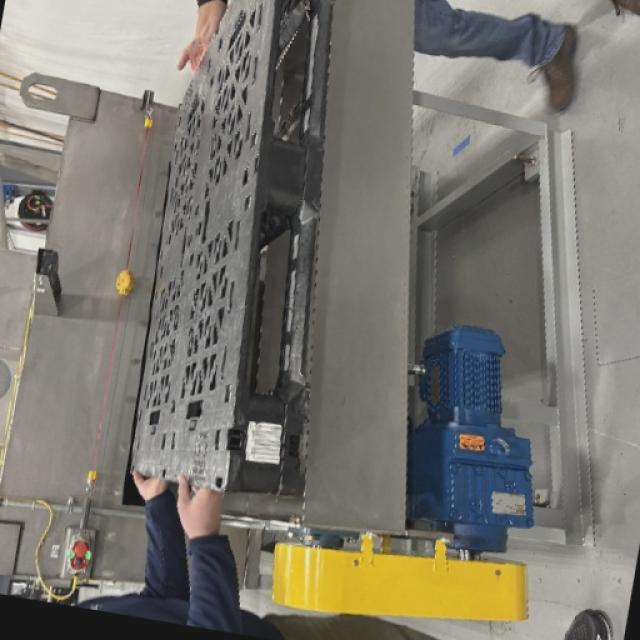igps: (120, 0, 349, 509)
